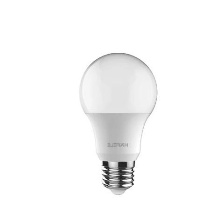light_bulb: (76, 49, 159, 197)
